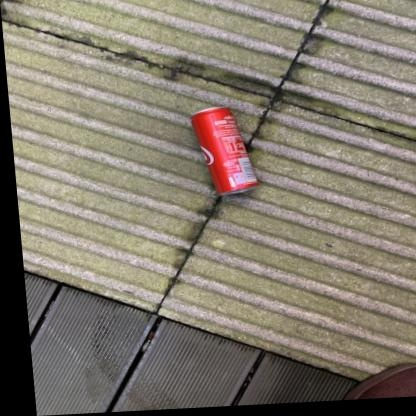trash: (192, 107, 256, 194)
